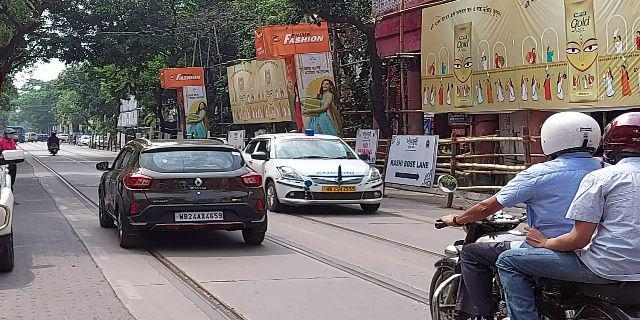Car: (90, 137, 267, 251), (242, 132, 392, 221)
Motorbike: (427, 107, 640, 320), (42, 129, 63, 157)
